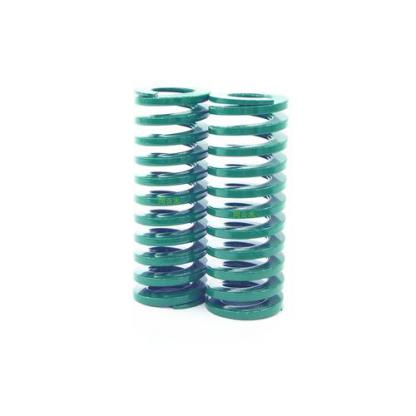FOD: (204, 86, 290, 324), (128, 81, 211, 313)
